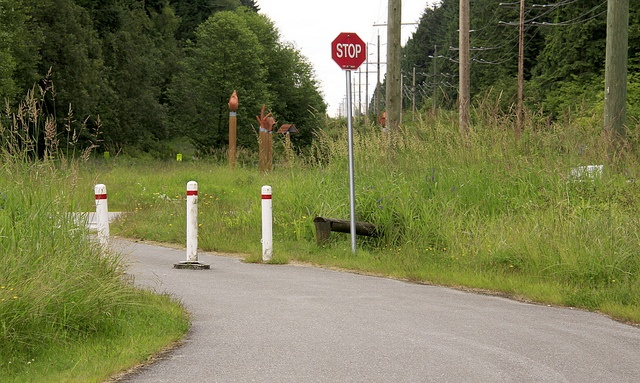stop sign: (331, 33, 640, 102)
